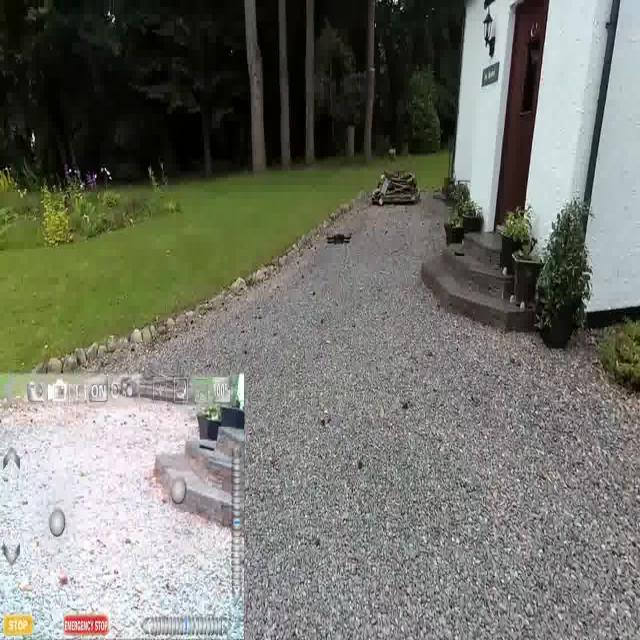drones: (322, 224, 358, 255)
